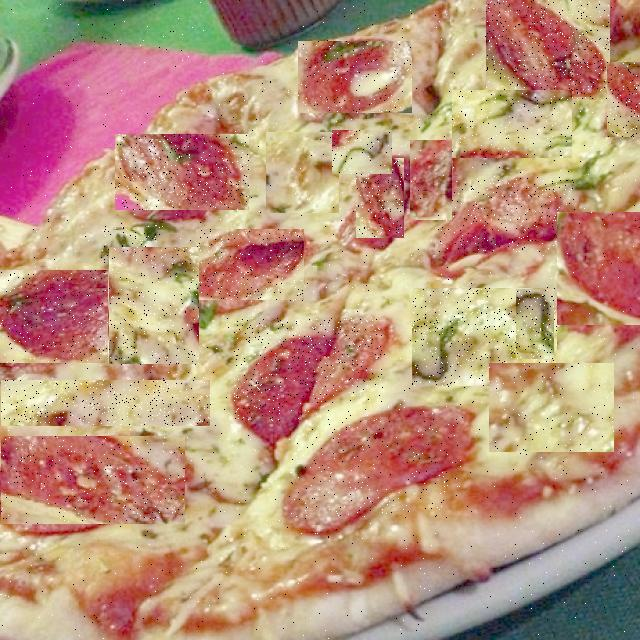Basil: (516, 289, 554, 359), (332, 130, 392, 174), (101, 224, 161, 266)
Cheese: (412, 288, 557, 386), (489, 363, 614, 452), (109, 248, 199, 366), (1, 380, 210, 426), (452, 90, 572, 158), (266, 132, 339, 213)
Pepperoni: (286, 403, 461, 518), (1, 436, 185, 524), (234, 318, 382, 421), (486, 0, 610, 100), (438, 177, 575, 252), (115, 134, 249, 210), (0, 270, 108, 363), (557, 212, 640, 325), (298, 41, 412, 113), (196, 230, 304, 302), (356, 158, 404, 238), (410, 140, 452, 220), (607, 62, 640, 137)
Pizza: (0, 0, 640, 640)
